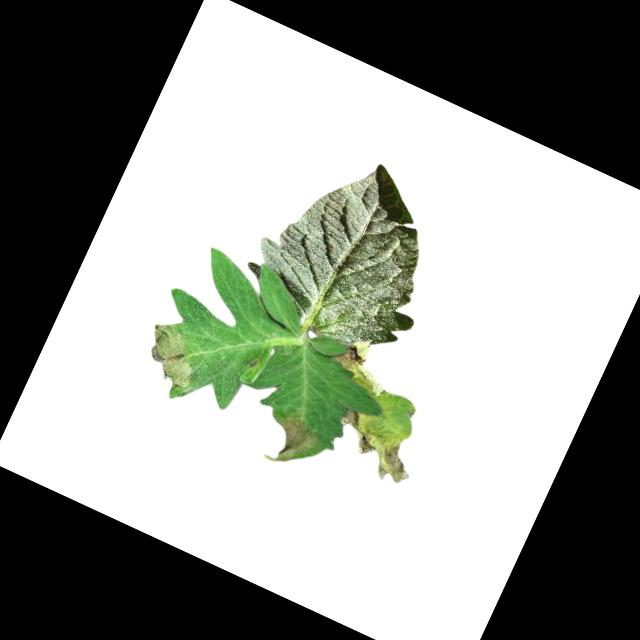Late_blight: (133, 317, 214, 396), (323, 331, 400, 399), (260, 406, 326, 476), (369, 434, 424, 493), (352, 427, 382, 459), (339, 405, 365, 431)
healthy: (233, 131, 468, 370)
